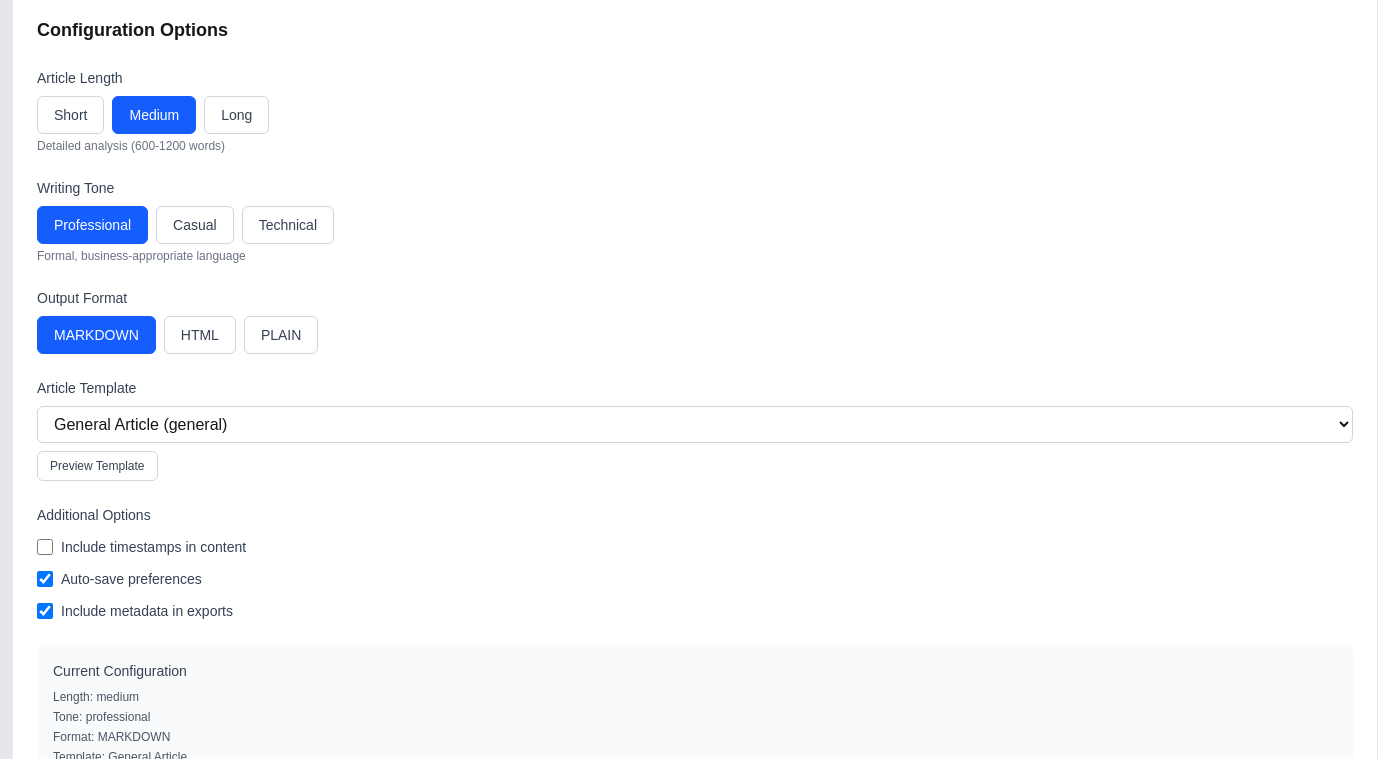
Test: Configuration Integration › should handle template selection across components
This screenshot has width=1378, height=759.
Note: Change template in configuration
Select "Tutorial Guide (tutorial)" in the dropdown at (695, 424), box [37,406,1353,443]
(page scrolled)
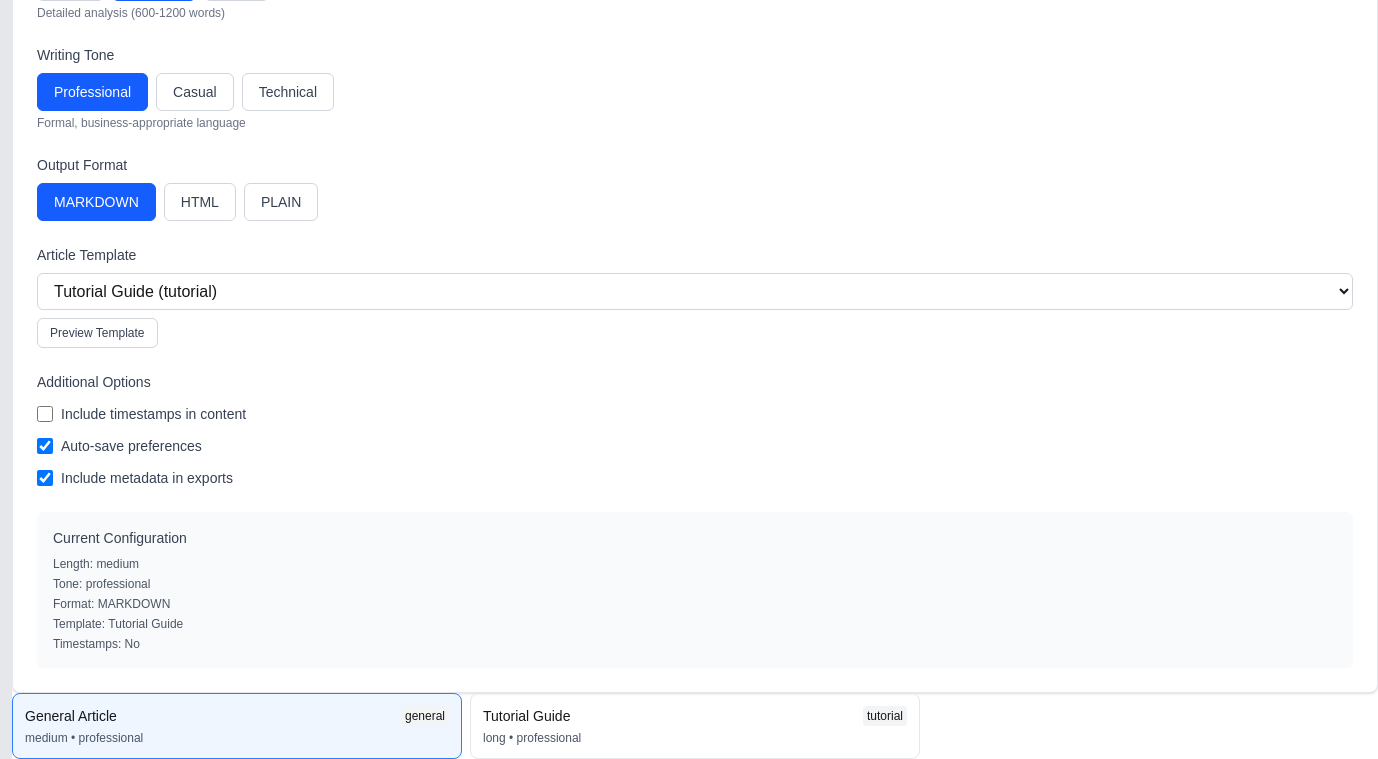
Expected: the text "General Article" is shown, [25,706,117,726]
Now the text "Tutorial Guide" next to "Template:" is shown, box [108,617,183,631]
